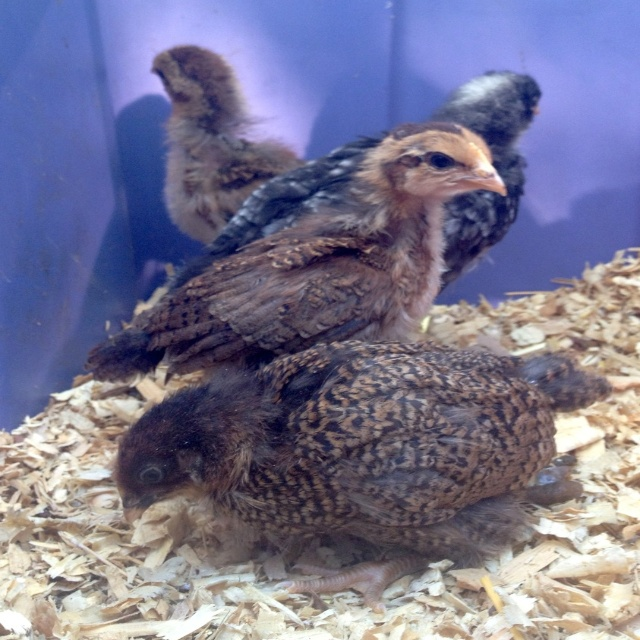Chicken: (88, 67, 547, 410)
